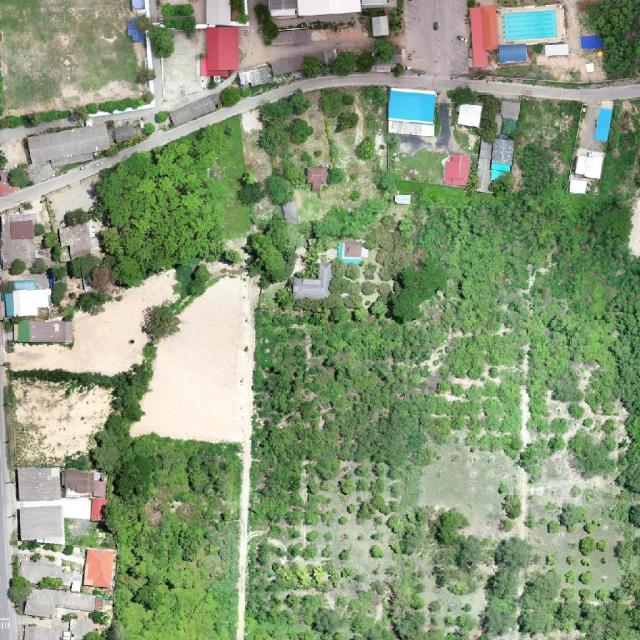building: (26, 122, 111, 164), (387, 87, 436, 137), (269, 1, 389, 17), (201, 26, 239, 76), (17, 506, 65, 545), (167, 94, 218, 127), (292, 262, 333, 299), (18, 467, 61, 501), (60, 467, 107, 498), (58, 223, 95, 261), (83, 547, 115, 588), (14, 321, 72, 342), (23, 586, 58, 620), (236, 63, 275, 92), (490, 137, 515, 182), (12, 289, 52, 316), (574, 148, 605, 180), (442, 153, 470, 187), (593, 99, 614, 143), (269, 54, 306, 77), (56, 592, 96, 612), (498, 100, 520, 136), (121, 16, 147, 46), (337, 241, 368, 266), (457, 102, 483, 129), (271, 29, 311, 45), (88, 497, 108, 524), (306, 167, 328, 191), (70, 619, 94, 640), (10, 220, 35, 240), (112, 125, 136, 144), (371, 16, 389, 36), (568, 180, 588, 194), (395, 195, 411, 205)
dryland: (3, 265, 205, 415), (131, 270, 257, 444), (12, 378, 113, 466), (521, 0, 607, 97)
greenland: (77, 118, 276, 292), (40, 277, 187, 479), (238, 74, 363, 221), (232, 208, 317, 293), (308, 195, 392, 245), (322, 34, 401, 84), (25, 248, 80, 306), (63, 246, 123, 298), (85, 90, 155, 118), (145, 20, 181, 62), (359, 86, 388, 136), (74, 284, 113, 320), (184, 261, 215, 300), (477, 94, 501, 143), (0, 163, 33, 190), (352, 135, 381, 164), (239, 80, 281, 98), (61, 206, 91, 229), (299, 53, 323, 80), (219, 84, 243, 108), (446, 86, 475, 104), (140, 122, 157, 138)
metalled_road: (131, 49, 461, 152), (0, 145, 139, 213), (0, 342, 18, 639), (403, 0, 469, 74)
